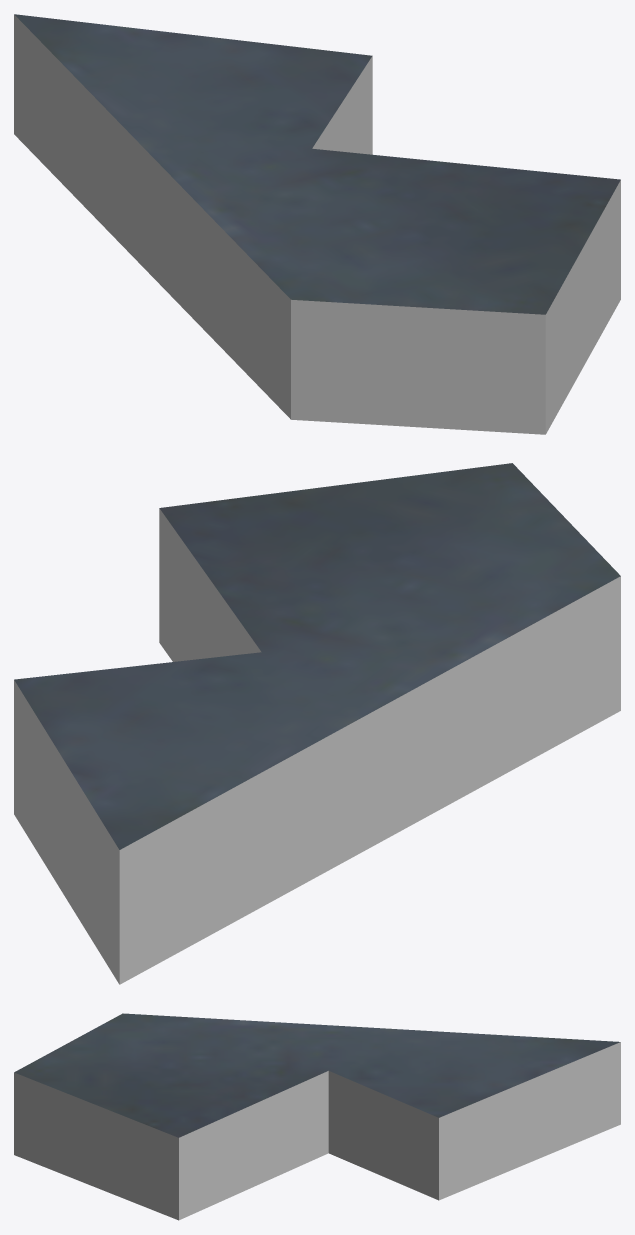
File: DEBW_0010007Tx4x.gltf
3 renders of one model, top to bottom at view 1: azimuth 30°, elevation 25°; view 2: azimuth 150°, elevation 25°; view 3: azimuth 270°, elevation 25°, orthographic. The views are drawn at different scales.
Parts seen in each view (by area): view 1: Z_UP; view 2: Z_UP; view 3: Z_UP.
Part boxes in pixels (box(x1,y1,x2,y2)): Z_UP: box(14, 14, 620, 434); Z_UP: box(14, 463, 620, 984); Z_UP: box(14, 1013, 620, 1220).
Bounding box in the file's own units: 8.04 × 2.49 × 16.57.
Materials: 2 (1 with a texture image).
